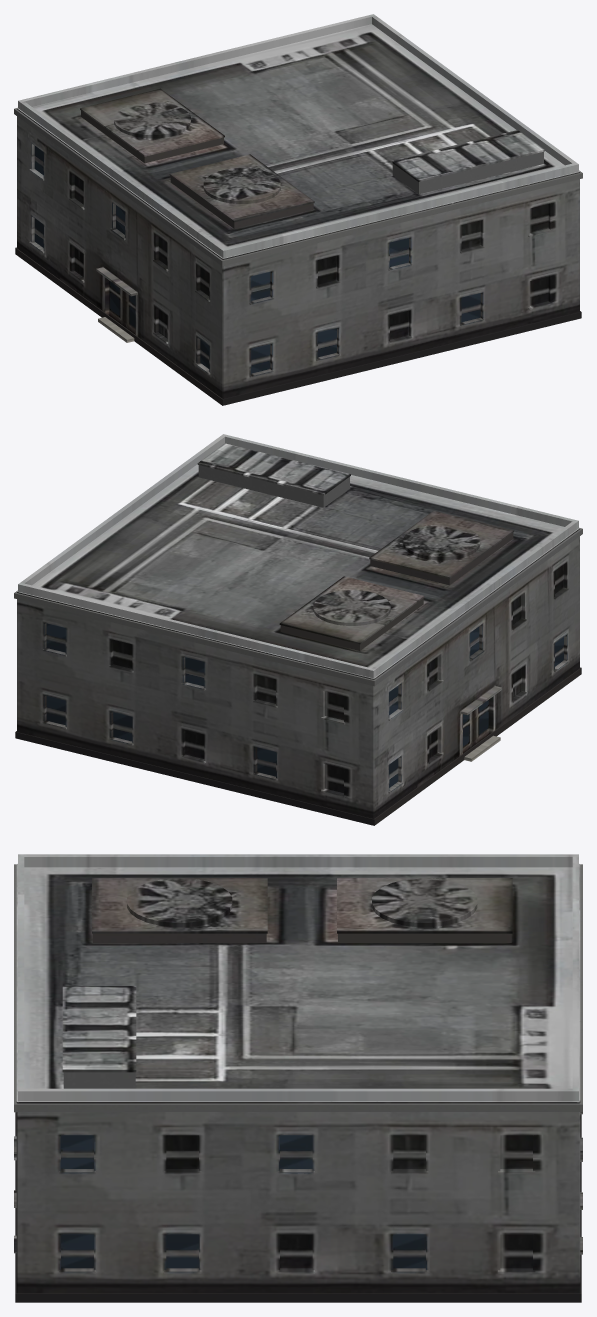
File: city2storyb_cad.glb
3 renders of one model, top to bottom at view 1: azimuth 30°, elevation 25°; view 2: azimuth 150°, elevation 25°; view 3: azimuth 270°, elevation 25°, orthographic. The views are drawn at different scales.
Parts seen in each view (by area): view 1: City2StoryA; view 2: City2StoryA; view 3: City2StoryA.
Part boxes in pixels (left/top/right/bottom): City2StoryA: left=14, top=14, right=582, bottom=405; City2StoryA: left=14, top=434, right=582, bottom=825; City2StoryA: left=14, top=854, right=582, bottom=1302.
Bounding box in the file's own units: 18.24 × 7.63 × 17.92.
Materials: 1 (1 with a texture image).
